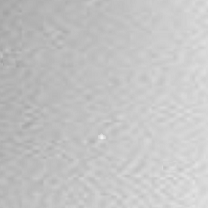Target: (98, 135, 106, 141)
